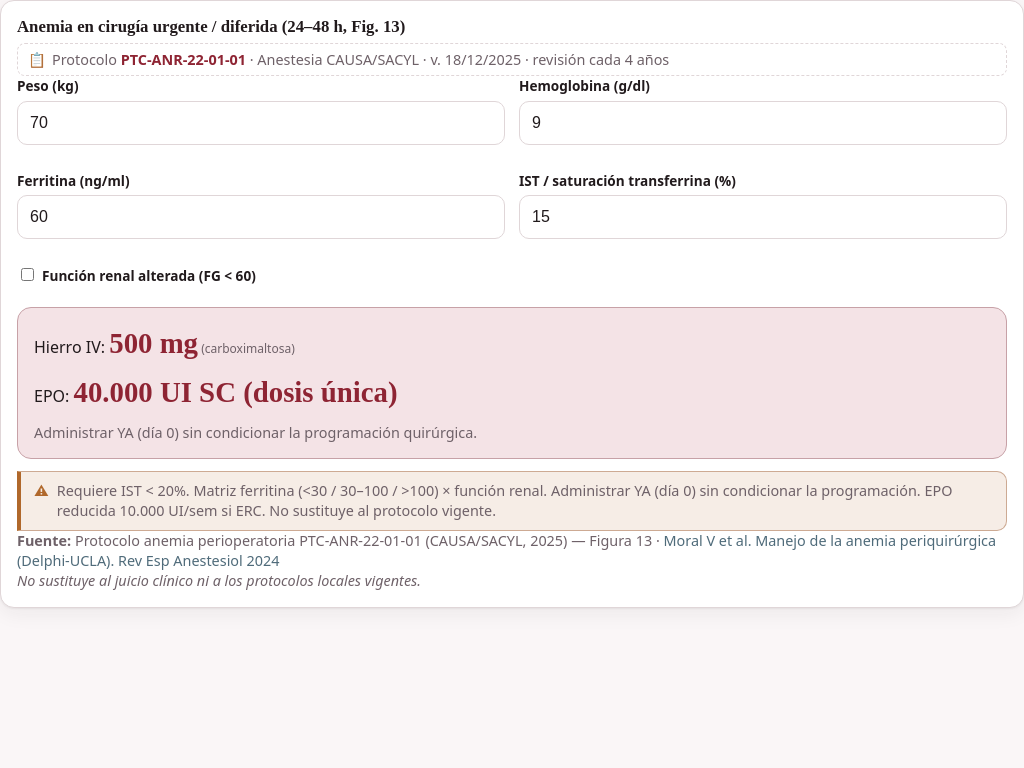
Test case: Pantallas de ferropenia — regresión Fase 2a › Urgente: IST vacía → fuera del algoritmo
Clear the field labelled "IST / saturación transferrina (%)" at [763, 217], box [519,195,1007,239]
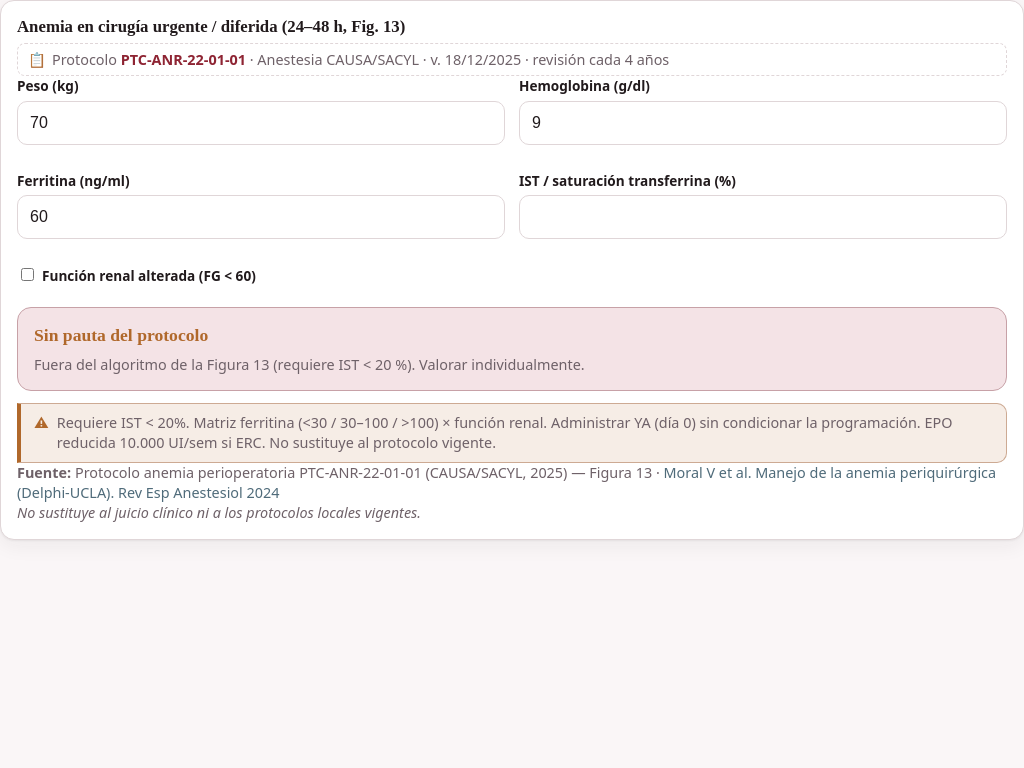
Expected: the text "Fuera del algoritmo de la Figura 13" is shown, [34,355,585,374]
